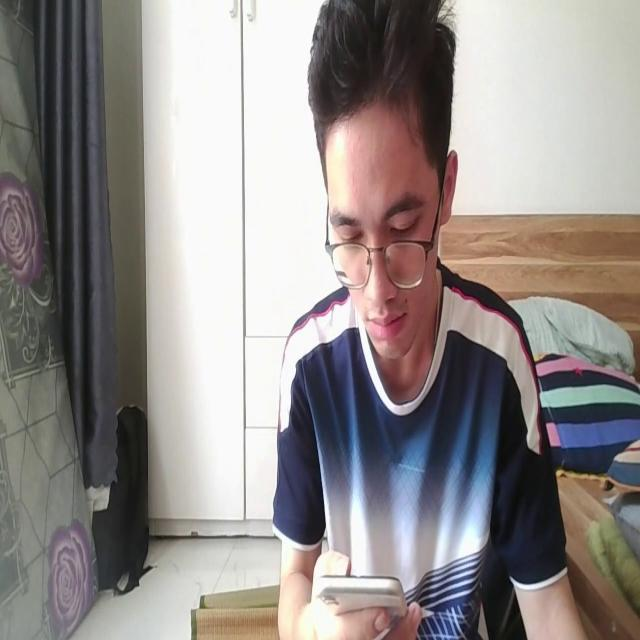phone: (318, 565, 406, 614)
student: (266, 0, 594, 640)
